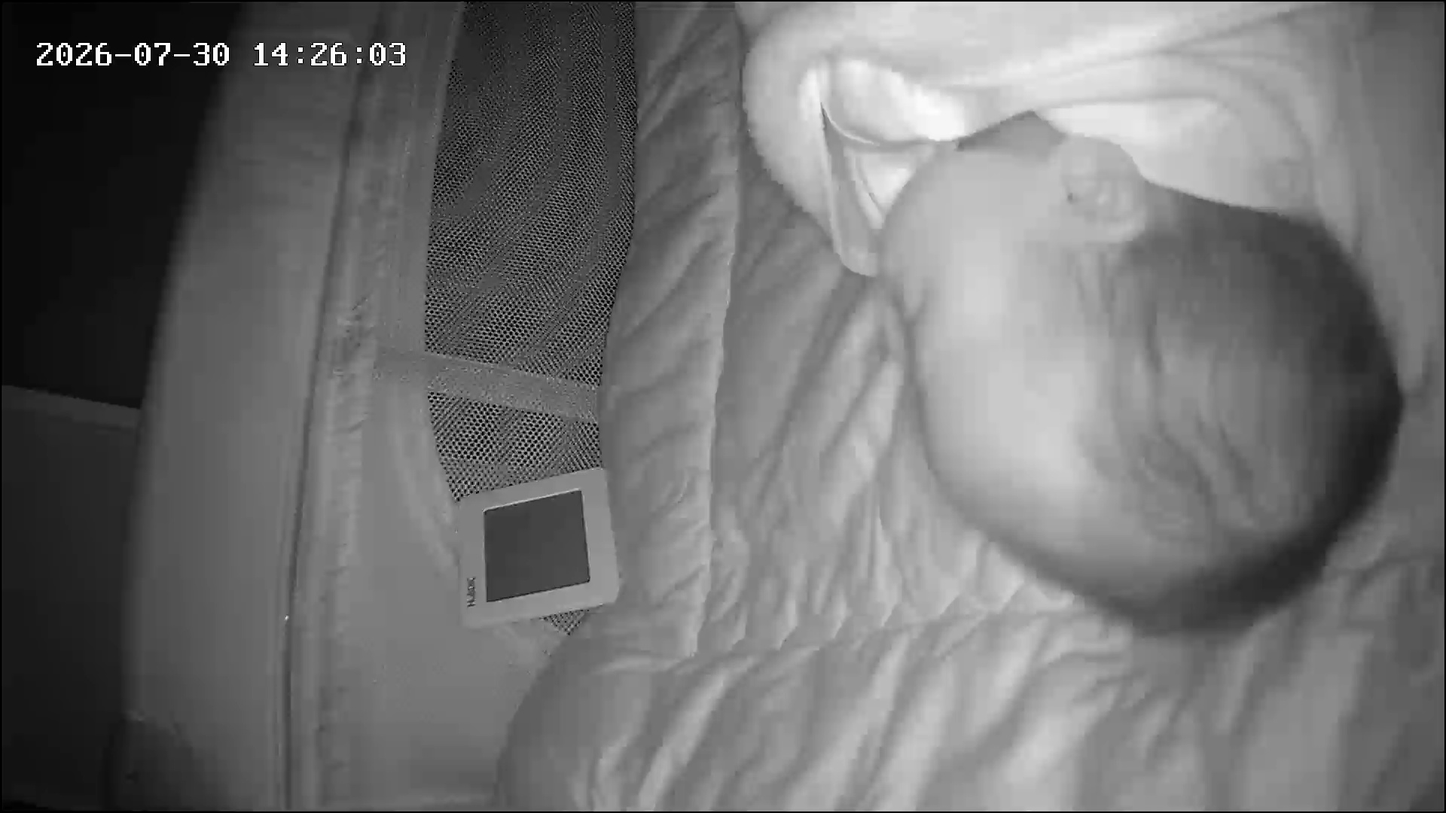baby: (703, 0, 1400, 629)
baby_face: (852, 108, 1389, 621)
